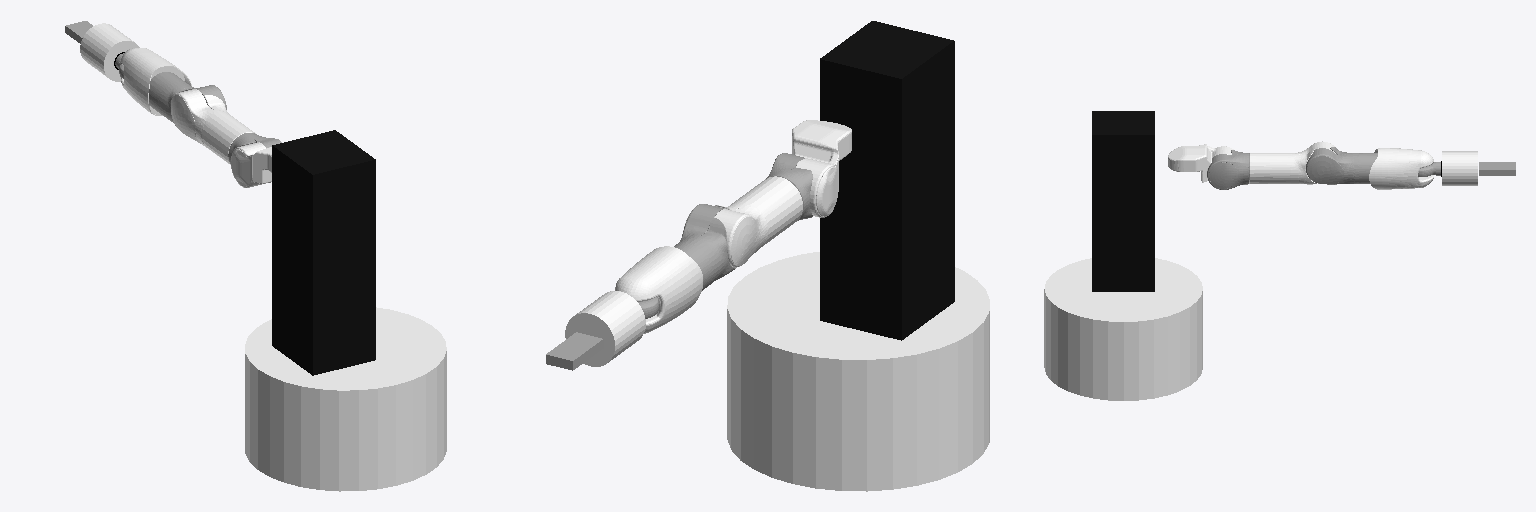
--- Facts derived from the render (not from the file) ---
3 views of the same robot in one strip: view 1: azimuth 30°, elevation 25°; view 2: azimuth 150°, elevation 25°; view 3: azimuth 270°, elevation 25° (orthographic).
Model tiago_left with 21 links and 20 joints (9 revolute, 3 prismatic, 8 fixed), rooted at base_footprint, posed every joint at zero.
Visible links, largest first — view 1: base_link, torso_fixed_column_link, arm_left_3_link, arm_left_5_link, gripper_left_link, arm_left_1_link, arm_left_4_link; view 2: base_link, torso_fixed_column_link, arm_left_3_link, arm_left_5_link, arm_left_1_link, gripper_left_link, arm_left_4_link, gripper_left_right_finger_link, arm_left_2_link; view 3: base_link, torso_fixed_column_link, arm_left_5_link, arm_left_4_link, arm_left_3_link, arm_left_2_link, arm_left_1_link, gripper_left_link.
Link boxes in pixels (box(x1,y1,x2,y2)): base_link: box(245, 307, 446, 491); torso_fixed_column_link: box(272, 130, 375, 375); arm_left_3_link: box(171, 89, 255, 164); arm_left_5_link: box(121, 48, 191, 115); gripper_left_link: box(80, 23, 139, 81); arm_left_1_link: box(231, 142, 271, 187); arm_left_4_link: box(149, 72, 226, 125); base_link: box(727, 252, 989, 491); torso_fixed_column_link: box(820, 21, 954, 340); arm_left_3_link: box(714, 176, 802, 266); arm_left_5_link: box(615, 246, 702, 333); arm_left_1_link: box(792, 120, 851, 217); gripper_left_link: box(565, 291, 645, 366); arm_left_4_link: box(674, 204, 736, 290); gripper_left_right_finger_link: box(546, 332, 603, 370); arm_left_2_link: box(766, 153, 812, 220); base_link: box(1044, 258, 1202, 400); torso_fixed_column_link: box(1092, 111, 1154, 291); arm_left_5_link: box(1369, 148, 1433, 189); arm_left_4_link: box(1306, 147, 1377, 184); arm_left_3_link: box(1249, 141, 1335, 184); arm_left_2_link: box(1207, 150, 1248, 189); arm_left_1_link: box(1168, 144, 1233, 182); gripper_left_link: box(1442, 151, 1477, 185).
Size in the robot's own frame: 0.5 by 1.49 by 0.8225 metres.
6 mesh visuals loaded from 10 distinct referenced files (6 binary STL); not drawn: 4 (reference not matched to a file when rendering).

The robot description file, URDF, robot "tiago_left":
<?xml version="1.0" encoding="utf-8"?>
<!-- =================================================================================== -->
<!-- |    This document was autogenerated by xacro from tiago_dual.urdf.xacro          | -->
<!-- |    EDITING THIS FILE BY HAND IS NOT RECOMMENDED                                 | -->
<!-- =================================================================================== -->
<!--
  Copyright (c) 2019, PAL Robotics, S.L.
  All rights reserved.

  This work is licensed under the Creative Commons Attribution-NonCommercial-NoDerivs 3.0 Unported License.
  To view a copy of this license, visit http://creativecommons.org/licenses/by-nc-nd/3.0/ or send a letter to
  Creative Commons, 444 Castro Street, Suite 900, Mountain View, California, 94041, USA.
-->
<robot name="tiago_left">
  <material name="Hey5DarkGrey">
    <color rgba="0.1 0.1 0.1 1.0"/>
  </material>
  <material name="Blue">
    <color rgba="0.0 0.0 0.8 1.0"/>
  </material>
  <material name="Green">
    <color rgba="0.0 0.8 0.0 1.0"/>
  </material>
  <material name="Grey">
    <color rgba="0.7 0.7 0.7 1.0"/>
  </material>
  <material name="LightGrey">
    <color rgba="0.7 0.7 0.7 1.0"/>
  </material>
  <material name="DarkGrey">
    <color rgba="0.1 0.1 0.1 1.0"/>
  </material>
  <material name="Red">
    <color rgba="0.8 0.0 0.0 1.0"/>
  </material>
  <material name="Orange">
    <color rgba="1.0 0.35 0.0 1.0"/>
  </material>
  <material name="Black">
    <color rgba="0.0 0.0 0.0 1.0"/>
  </material>  
  <material name="White">
    <color rgba="1.0 1.0 1.0 1.0"/>
  </material>
  <material name="Yellow">
    <color rgba="0.96 0.88 0.14 1.0"/>
  </material>

  <!-- Base -->
  <link name="base_link">
    <inertial>
      <origin rpy="0 0 0" xyz="-0.00000106 0.00000109 0.0000387"/>
      <mass value="28.26649"/>
      <inertia ixx="0.465408937" ixy="0.002160024" ixz="-0.001760255" iyy="0.483193291" iyz="-0.000655952" izz="0.550939703"/>
    </inertial>
<!--    <visual>-->
<!--      <origin rpy="0 0 0" xyz="0 0 0"/>-->
<!--      <geometry>-->
<!--        <mesh filename="meshes/pmb2_description/meshes/base/high_resolution/base_collision.stl"/>-->
<!--      </geometry>-->
<!--      <material name="White"/>-->
<!--    </visual>-->
    <visual>
      <origin rpy="0 0 0" xyz="0 0 0.06"/>
      <geometry>
        <cylinder radius="0.25" length="0.275"/>
      </geometry>
      <material name="White"/>
    </visual>
    <collision>
      <origin rpy="0 0 0" xyz="0 0 0"/>
      <geometry>
        <mesh filename="meshes/pmb2_description/meshes/base/high_resolution/base_collision.stl"/>
      </geometry>
      <material name="White"/>
    </collision>
    <contact>
	    <lateral_friction value="0.0" />
	    <rolling_friction value="0.0" />
	    <stiffness value="300000" />
	    <damping value="30000" />
    </contact>
  </link>
  <!-- Base footprint -->
  <link name="base_footprint">
    <inertial>
      <origin rpy="0 0 0" xyz="0 0 0"/>
      <mass value="0.001"/>
      <inertia ixx="0.000001" ixy="0" ixz="0" iyy="0.000001" iyz="0" izz="0.000001"/>
    </inertial>
  </link>
  <joint name="base_footprint_joint" type="fixed">
    <origin rpy="0 0 0" xyz="0 0 0.0985"/>
    <child link="base_link"/>
    <parent link="base_footprint"/>
  </joint>
  <!-- Bottom fixed part of column -->
  <link name="torso_fixed_link">
    <inertial>
      <origin rpy="0.00000 0.00000 0.00000" xyz="0.02435 -0.00464 0.15900"/>
      <mass value="14.01360"/>
      <inertia ixx="0.38341100000" ixy="0.00036400000" ixz="-0.02438900000" iyy="0.40577300000" iyz="-0.00078200000" izz="0.07699800000"/>
    </inertial>
    <visual>
      <origin rpy="0 0 0" xyz="0 0 0"/>
      <geometry>
        <mesh filename="meshes/tiago_dual_description/meshes/torso/torso_fix.stl" scale="1 1 1"/>
      </geometry>
      <material name="LightGrey"/>
    </visual>
    <collision>
      <origin rpy="0 0 0" xyz="0.085 0.0 0.02"/>
      <geometry>
        <box size="0.4 0.25 0.04"/>
      </geometry>
    </collision>
    <collision>
      <origin rpy="0 0 0" xyz="0 0 0.05"/>
      <geometry>
        <box size="0.25 0.25 0.1"/>
      </geometry>
    </collision>
  </link>
  <joint name="torso_fixed_joint" type="fixed">
    <origin rpy="0 0 0" xyz="-0.062 0.0 0.193"/>
    <parent link="base_link"/>
    <child link="torso_fixed_link"/>
    <axis xyz="0 0 0"/>
  </joint>
  <!-- Middle extending  -->
  <link name="torso_fixed_column_link">
    <inertial>
      <origin rpy="0 0 0" xyz="0 0 0"/>
      <mass value="0.01"/>
      <inertia ixx="0.000001" ixy="0" ixz="0" iyy="0.000001" iyz="0" izz="0.000001"/>
    </inertial>
    <visual>
      <origin rpy="0 0 0" xyz="0 0 0.275"/>
      <geometry>
        <box size="0.18 0.2 0.55"/>
      </geometry>
      <material name="DarkGrey"/>
    </visual>
    <collision>
      <origin rpy="0 0 0" xyz="0 0 0.275"/>
      <geometry>
        <box size="0.23 0.23 0.55"/>
      </geometry>
      <material name="DarkGrey"/>
    </collision>
  </link>
  <joint name="torso_fixed_column_joint" type="fixed">
    <origin rpy="0 0 0" xyz="-0.062 0 0.195"/>
    <parent link="base_link"/>
    <child link="torso_fixed_column_link"/>
    <axis xyz="0 0 0"/>
  </joint>
  <link name="torso_lift_link">
    <inertial>
      <origin rpy="0.00000 0.00000 0.00000" xyz="0.04361 -0.00116 -0.17334"/>
      <mass value="9.594213"/>
      <inertia ixx="0.326395" ixy="-0.000844" ixz="-0.018905" iyy="0.235332" iyz="0.009042" izz="0.176168"/>
    </inertial>
    <!-- Lifting body -->
    <visual>
      <origin rpy="0 0 0" xyz="0 0 0"/>
      <geometry>
        <mesh filename="meshes/tiago_dual_description/meshes/torso/torso_lift_dual_arm.stl" scale="1 1 1"/>
      </geometry>
      <material name="White"/>
    </visual>
    <collision>
      <origin rpy="0 0 0" xyz="0 0 0"/>
      <geometry>
        <mesh filename="meshes/tiago_description/meshes/torso/torso_lift_collision_core.dae" scale="1 1 1"/>
      </geometry>
      <material name="LightGrey"/>
    </collision>
    <!-- left shoulder collision-->
    <collision>
      <origin rpy="0 0 0" xyz="-0.131 0.17 -0.02556"/>
      <geometry>
        <mesh filename="meshes/tiago_description/meshes/torso/torso_lift_collision_shoulder.dae" scale="1 1 1"/>
      </geometry>
      <material name="LightGrey"/>
    </collision>
    <!-- right shoulder collision-->
    <collision>
      <origin rpy="0 0 0" xyz="-0.131 -0.19 -0.02556"/>
      <geometry>
        <mesh filename="meshes/tiago_description/meshes/torso/torso_lift_collision_shoulder.dae" scale="1 1 1"/>
      </geometry>
      <material name="LightGrey"/>
    </collision>
    <collision>
      <origin rpy="0 0 0" xyz="0 0 0"/>
      <geometry>
        <mesh filename="meshes/tiago_description/meshes/torso/torso_lift_collision_neck.dae" scale="1 1 1"/>
      </geometry>
      <material name="LightGrey"/>
    </collision>
  </link>
  <joint name="torso_lift_joint" type="prismatic">
    <origin rpy="0.0 0.0 0.0" xyz="0.0 0.0 0.597"/>
    <parent link="torso_fixed_link"/>
    <child link="torso_lift_link"/>
    <axis xyz="0 0 1"/>
    <limit effort="2000" lower="0" upper="0.35" velocity="0.07"/>
    <calibration rising="0.0"/>
    <dynamics damping="1000"/>
    <safety_controller k_position="20" k_velocity="20" soft_lower_limit="0.0" soft_upper_limit="0.35"/>
  </joint>
  <link name="head_1_link">
    <inertial>
      <origin rpy="0.00000 0.00000 0.00000" xyz="-0.00508 0.00237 0.07229"/>
      <mass value="0.62220"/>
      <inertia ixx="0.00119200000" ixy="-0.00000700000" ixz="0.00009600000" iyy="0.00140200000" iyz="0.00000400000" izz="0.00088900000"/>
    </inertial>
    <visual>
      <origin rpy="0 0 0" xyz="0 0 0"/>
      <geometry>
        <mesh filename="meshes/tiago_description/meshes/head/head_1.stl" scale="1 1 1"/>
      </geometry>
      <material name="White"/>
    </visual>
    <collision>
      <origin rpy="0 0 0.0" xyz="0.0 0 0"/>
      <geometry>
        <mesh filename="meshes/tiago_description/meshes/head/head_1_collision.dae" scale="1 1 1"/>
      </geometry>
      <material name="White"/>
    </collision>
  </link>
  <joint name="head_1_joint" type="revolute">
    <parent link="torso_lift_link"/>
    <child link="head_1_link"/>
    <origin rpy="0 0 0" xyz="0.182 0.0 0.0"/>
    <axis xyz="0 0 1"/>
    <limit effort="5.197" lower="-1.308996939" upper="1.308996939" velocity="3.0"/>
    <dynamics damping="0.5" friction="1.0"/>
    <safety_controller k_position="20" k_velocity="20" soft_lower_limit="-1.238996939" soft_upper_limit="1.238996939"/>
  </joint>
  <link name="head_2_link">
    <inertial>
      <origin rpy="0.00000 0.00000 0.00000" xyz="0.04700 0.05542 0.00022"/>
      <mass value="0.66123"/>
      <inertia ixx="0.00462000000" ixy="0.00068900000" ixz="0.00000600000" iyy="0.00486100000" iyz="0.00000600000" izz="0.00313200000"/>
    </inertial>
    <visual>
      <origin rpy="0 0 0" xyz="0 0 0"/>
      <geometry>
        <mesh filename="meshes/tiago_description/meshes/head/head_2.stl" scale="1 1 1"/>
      </geometry>
      <material name="White"/>
    </visual>
    <collision>
      <origin rpy="0 0 0" xyz="0 0 0"/>
      <geometry>
        <mesh filename="meshes/tiago_description/meshes/head/head_2_collision.dae" scale="1 1 1"/>
      </geometry>
    </collision>
  </link>
  <joint name="head_2_joint" type="revolute">
    <parent link="head_1_link"/>
    <child link="head_2_link"/>
    <origin rpy="1.57079632679 0 0" xyz="0.005 0.0 0.098"/>
    <axis xyz="0 0 1"/>
    <limit effort="2.77" lower="-1.0471975512" upper="0.785398163397" velocity="3.0"/>
    <dynamics damping="0.5" friction="1.0"/>
    <safety_controller k_position="20" k_velocity="20" soft_lower_limit="-0.977197551197" soft_upper_limit="0.785398163397"/>
  </joint>
  <!--************************-->
  <!--        SHOULDER        -->
  <!--************************-->
  <link name="arm_left_1_link">
    <inertial>
      <origin rpy="0.00000 0.00000 0.00000" xyz="0.061191 -0.022397 0.012835"/>
      <mass value="1.563428"/>
      <inertia ixx="0.002471" ixy="0.001809" ixz="-0.001202" iyy="0.006132" iyz="-0.000494" izz="0.006704"/>
    </inertial>
    <!-- M90 module -->
    <visual>
      <origin rpy="0 0 0" xyz="0 0 0"/>
      <geometry>
        <mesh filename="meshes/tiago_description/meshes/arm/arm_1_left.stl" scale="1 1 1"/>
      </geometry>
      <material name="White"/>
    </visual>
    <collision>
      <origin rpy="0 0 0" xyz="0 0 0"/>
      <geometry>
        <mesh filename="meshes/tiago_description/meshes/arm/arm_1_collision.dae" scale="1 -1 -1"/>
      </geometry>
    </collision>
  </link>
  <joint name="arm_left_1_joint" type="revolute">
    <parent link="torso_lift_link"/>
    <child link="arm_left_1_link"/>
    <origin rpy="3.14159265359 0 1.57079632679" xyz="0.02556 0.19 -0.171"/>
    <axis xyz="0 0 1"/>
    <limit effort="43.0" lower="-1.1780972451" upper="1.57079632679" velocity="1.95"/>
    <dynamics damping="1.0" friction="1.0"/>
    <safety_controller k_position="20" k_velocity="20" soft_lower_limit="-1.1080972451" soft_upper_limit="1.50079632679"/>
  </joint>
  <link name="arm_left_2_link">
    <inertial>
      <origin rpy="0.00000 0.00000 0.00000" xyz="0.030432 0.000229 0.005942"/>
      <mass value="1.800397"/>
      <inertia ixx="0.001809" ixy="-1.5e-05" ixz="-0.000254" iyy="0.004333" iyz="-1.4e-05" izz="0.004341"/>
    </inertial>
    <visual>
      <!-- <origin xyz="0 0 0" rpy="${180 * deg_to_rad} ${0 * deg_to_rad} ${-90 * deg_to_rad}" /> -->
      <origin rpy="0.0 0.0 0.0" xyz="0 0 0"/>
      <geometry>
        <mesh filename="meshes/tiago_description/meshes/arm/arm_2_left.stl" scale="1 1 1"/>
      </geometry>
      <material name="Grey"/>
    </visual>
    <collision>
      <!-- <origin xyz="0 0 0" rpy="${180 * deg_to_rad} ${0 * deg_to_rad} ${-90 * deg_to_rad}" /> -->
      <origin rpy="0.0 0.0 0.0" xyz="0 0 0"/>
      <geometry>
        <mesh filename="meshes/tiago_description/meshes/arm/arm_2_collision.dae" scale="1 1 -1"/>
      </geometry>
    </collision>
  </link>
  <joint name="arm_left_2_joint" type="revolute">
    <parent link="arm_left_1_link"/>
    <child link="arm_left_2_link"/>
    <origin rpy="1.57079632679 0.0 0.0" xyz="0.125 -0.0195 0.031"/>
    <axis xyz="0 0 1"/>
    <limit effort="43.0" lower="-1.1780972451" upper="1.57079632679" velocity="1.95"/>
    <dynamics damping="1.0" friction="1.0"/>
    <safety_controller k_position="20" k_velocity="20" soft_lower_limit="-1.1080972451" soft_upper_limit="1.50079632679"/>
  </joint>
  <link name="arm_left_3_link">
    <inertial>
      <origin rpy="0.00000 0.00000 0.00000" xyz="0.007418 -0.004361 0.134194"/>
      <mass value="2.343502"/>
      <inertia ixx="0.019541" ixy="-0.000105" ixz="-0.001717" iyy="0.019936" iyz="-0.000852" izz="0.002864"/>
    </inertial>
    <visual>
      <origin rpy="0 0 0" xyz="0 0 0"/>
      <geometry>
        <mesh filename="meshes/tiago_description/meshes/arm/arm_3_left.stl" scale="1 1 1"/>
      </geometry>
      <material name="White"/>
    </visual>
    <collision>
      <origin rpy="0 0 0" xyz="0 0 0"/>
      <geometry>
        <mesh filename="meshes/tiago_description/meshes/arm/arm_3_collision.dae" scale="1 1 -1"/>
      </geometry>
    </collision>
  </link>
  <joint name="arm_left_3_joint" type="revolute">
    <parent link="arm_left_2_link"/>
    <child link="arm_left_3_link"/>
    <origin rpy="-1.57079632679 3.14159265359 -1.57079632679" xyz="0.0895 0.0 0.0015"/>
    <axis xyz="0 0 1"/>
    <limit effort="26" lower="-0.785398163397" upper="3.92699081699" velocity="2.35"/>
    <dynamics damping="1.0" friction="1.0"/>
    <safety_controller k_position="20" k_velocity="20" soft_lower_limit="-0.715398163397" soft_upper_limit="3.85699081699"/>
  </joint>
  <!--************************-->
  <!--        ELBOW           -->
  <!--************************-->
  <link name="arm_left_4_link">
    <inertial>
      <origin rpy="0.00000 0.00000 0.00000" xyz="0.095658 -0.014666 0.018133"/>
      <mass value="1.432697"/>
      <inertia ixx="0.002040" ixy="-0.000725" ixz="0.00115" iyy="0.008424" iyz="-0.000204" izz="0.008686"/>
    </inertial>
    <visual>
      <origin rpy="0 0 0" xyz="0 0 0"/>
      <geometry>
        <mesh filename="meshes/tiago_description/meshes/arm/arm_4_left.stl" scale="1 1 1"/>
      </geometry>
      <material name="Grey"/>
    </visual>
    <collision>
      <origin rpy="0 0 0" xyz="0 0 0"/>
      <geometry>
        <mesh filename="meshes/tiago_description/meshes/arm/arm_4_collision.dae" scale="-1 -1 -1"/>
      </geometry>
    </collision>
  </link>
  <joint name="arm_left_4_joint" type="revolute">
    <parent link="arm_left_3_link"/>
    <child link="arm_left_4_link"/>
    <origin rpy="1.57079632679 -1.57079632679 0.0" xyz="-0.02 -0.027 0.222"/>
    <axis xyz="0 0 1"/>
    <limit effort="26" lower="-0.392699081699" upper="2.35619449019" velocity="2.35"/>
    <dynamics damping="1.0" friction="1.0"/>
    <safety_controller k_position="20" k_velocity="20" soft_lower_limit="-0.322699081699" soft_upper_limit="2.28619449019"/>
  </joint>
  <!--************************-->
  <!--        WRIST           -->
  <!--************************-->
  <link name="arm_left_5_link">
    <inertial>
      <origin rpy="0.00000 0.00000 0.00000" xyz="0.001078 -0.000151 0.077173"/>
      <mass value="1.655819"/>
      <inertia ixx="0.00613800000" ixy="-0.00000400000" ixz="0.00015600000" iyy="0.00564000000" iyz="0.00002200000" izz="0.00179700000"/>
    </inertial>
    <visual>
      <origin rpy="0 0 0" xyz="0 0 0"/>
      <geometry>
        <mesh filename="meshes/tiago_description/meshes/arm/arm_5-wrist-2017_left.stl" scale="1 1 1"/>
      </geometry>
      <material name="White"/>
    </visual>
    <collision>
      <origin rpy="0 0 0" xyz="0 0 0"/>
      <geometry>
        <mesh filename="meshes/tiago_description/meshes/arm/arm_5_collision-wrist-2017.dae" scale="-1 -1 -1"/>
      </geometry>
    </collision>
  </link>
  <joint name="arm_left_5_joint" type="revolute">
    <parent link="arm_left_4_link"/>
    <child link="arm_left_5_link"/>
    <origin rpy="1.57079632679 -1.57079632679 -1.57079632679" xyz="0.162 -0.02 -0.027"/>
    <axis xyz="0 0 1"/>
    <limit effort="3" lower="-2.09439510239" upper="2.09439510239" velocity="1.95"/>
    <dynamics damping="1.0" friction="1.0"/>
    <safety_controller k_position="20" k_velocity="20" soft_lower_limit="-2.07439510239" soft_upper_limit="2.07439510239"/>
  </joint>
  <link name="arm_left_6_link">
    <inertial>
      <origin rpy="0.00000 0.00000 0.00000" xyz="-0.000153 -0.003122 0.000183"/>
      <mass value="0.370063"/>
      <inertia ixx="0.00021500000" ixy="0.00000000000" ixz="0.00000000000" iyy="0.00017000000" iyz="0.00000200000" izz="0.00017400000"/>
    </inertial>
    <visual>
      <origin rpy="0 0 0" xyz="0 0 0"/>
      <geometry>
        <mesh filename="meshes/tiago_description/meshes/arm/arm_6-wrist-2017_left.stl" scale="1 1 1"/>
      </geometry>
      <material name="LightGrey"/>
    </visual>
    <collision>
      <origin rpy="0 0 0" xyz="0 0 0"/>
      <geometry>
        <mesh filename="meshes/tiago_description/meshes/arm/arm_6_collision-wrist-2017.dae" scale="-1 1 1"/>
      </geometry>
    </collision>
  </link>
  <joint name="arm_left_6_joint" type="revolute">
    <parent link="arm_left_5_link"/>
    <child link="arm_left_6_link"/>
    <origin rpy="0.0 -1.57079632679 -1.57079632679" xyz="0 0 -0.15"/>
    <axis xyz="0 0 1"/>
    <limit effort="6.6" lower="-1.41371669412" upper="1.41371669412" velocity="1.76"/>
    <dynamics damping="1.0" friction="1.0"/>
    <safety_controller k_position="20" k_velocity="20" soft_lower_limit="-1.39371669412" soft_upper_limit="1.39371669412"/>
  </joint>
  <link name="arm_left_7_link">
    <inertial>
      <origin rpy="0.00000 0.00000 0.00000" xyz="0.000010 -0.000003 -0.007774"/>
      <mass value="0.234252"/>
      <inertia ixx="0.00014200000" ixy="0.00000000000" ixz="0.00000000000" iyy="0.00011300000" iyz="0.00000000000" izz="0.00005200000"/>
    </inertial>
  </link>
  <joint name="arm_left_7_joint" type="revolute">
    <parent link="arm_left_6_link"/>
    <child link="arm_left_7_link"/>
    <origin rpy="1.57079632679 0.0 1.57079632679" xyz="0 0 0"/>
    <axis xyz="0 0 1"/>
    <limit effort="6.6" lower="-2.09439510239" upper="2.09439510239" velocity="1.76"/>
    <dynamics damping="1.0" friction="1.0"/>
    <safety_controller k_position="20" k_velocity="20" soft_lower_limit="-2.07439510239" soft_upper_limit="2.07439510239"/>
  </joint>
    <!--***********************-->
  <!--        TOOL           -->
  <!--***********************-->
  <link name="arm_left_tool_link">
    <inertial>
      <mass value="0.1"/>
      <inertia ixx="0.0" ixy="0.0" ixz="0.0" iyy="0.0" iyz="0.0" izz="0.0"/>
    </inertial>
    <visual>
      <origin rpy="0 1.57079632679 0" xyz="0.001 0 0"/>
      <geometry>
        <cylinder length="0.005" radius="0.005"/>
      </geometry>
      <material name="Blue"/>
    </visual>
    <collision>
      <origin rpy="0 1.57079632679 0" xyz="0.001 0 0"/>
      <geometry>
        <cylinder length="0.005" radius="0.005"/>
      </geometry>
    </collision>
  </link>
  <joint name="arm_left_tool_joint" type="fixed">
    <parent link="arm_left_7_link"/>
    <child link="arm_left_tool_link"/>
    <origin rpy="1.57079632679 1.57079632679 3.14159265359" xyz="0 0 -0.046"/>
  </joint>
  <!--************************-->
  <!--        ft sensor       -->
  <!--************************-->
  <link name="wrist_left_ft_link">
    <inertial>
      <mass value="0.1"/>
      <inertia ixx="0.0" ixy="0.0" ixz="0.0" iyy="0.0" iyz="0.0" izz="0.0"/>
    </inertial>
    <visual>
      <origin rpy="0 0 0" xyz="0 0 0"/>
      <geometry>
        <cylinder length="0.0157" radius="0.0225"/>
      </geometry>
      <material name="LightGrey"/>
    </visual>
    <collision>
      <origin rpy="0 0 0" xyz="0 0 0"/>
      <geometry>
        <cylinder length="0.0157" radius="0.0225"/>
      </geometry>
    </collision>
  </link>
  <joint name="wrist_left_ft_joint" type="fixed">
    <parent link="arm_left_tool_link"/>
    <child link="wrist_left_ft_link"/>
    <origin rpy="1.57079632679 0 1.57079632679" xyz="0.00785 0 0"/>
  </joint>
  <!--***********************-->
  <!--       FT TOOL         -->
  <!--***********************-->
  <link name="wrist_left_ft_tool_link">
    <inertial>
      <mass value="0.1"/>
      <inertia ixx="0.0" ixy="0.0" ixz="0.0" iyy="0.0" iyz="0.0" izz="0.0"/>
    </inertial>
    <visual>
      <origin rpy="0 1.57079632679 0" xyz="0.0 0 0"/>
      <geometry>
        <cylinder length="0.00975" radius="0.025"/>
      </geometry>
      <material name="Black"/>
    </visual>
    <collision>
      <origin rpy="0 1.57079632679 0" xyz="0.0 0 0"/>
      <geometry>
        <cylinder length="0.00975" radius="0.025"/>
      </geometry>
    </collision>
  </link>
  <joint name="wrist_left_tool_joint" type="fixed">
    <parent link="wrist_left_ft_link"/>
    <child link="wrist_left_ft_tool_link"/>
    <origin rpy="-1.57079632679 -1.57079632679 0" xyz="0 0 0.012725"/>
  </joint>
  <link name="gripper_left_tool_link">
    <inertial>
      <origin rpy="0 0 0" xyz="0 0 0"/>
      <mass value="0.0001"/>
      <inertia ixx="0.00001" ixy="0.0" ixz="0.0" iyy="0.00001" iyz="0.0" izz="0.00001"/>
    </inertial>
  </link>
  <joint name="gripper_left_tool_joint" type="fixed">
    <origin rpy="1.57079632679 1.57079632679 -1.57079632679" xyz="0.01 0 0"/>
    <parent link="wrist_left_ft_tool_link"/>
    <child link="gripper_left_tool_link"/>
    <axis xyz="0 0 0"/>
  </joint>
  <link name="gripper_left_link">
    <inertial>
      <origin rpy="0.0 0.0 0.0" xyz="-0.000294 0.000291 -0.033086"/>
      <mass value="0.602660"/>
      <inertia ixx="0.000693" ixy="0.000045" ixz="-0.000000" iyy="0.001024" iyz="0.000000" izz="0.000672"/>
    </inertial>
    <visual>
<!--      <origin rpy="0 0 0" xyz="0 0 0"/>-->
<!--      <geometry>-->
<!--        <mesh filename="meshes/pal_gripper_description/meshes/gripper_link.stl"/>-->
<!--      </geometry>-->
      <origin rpy="0 0 0" xyz="0 0 -0.045"/>
      <geometry>
        <cylinder radius="0.055" length="0.1163"/>
      </geometry>

      <material name="White"/>
    </visual>
    <collision>
      <origin rpy="0 0 0" xyz="0 0 0"/>
      <geometry>
        <mesh filename="meshes/pal_gripper_description/meshes/gripper_link_collision.stl"/>
      </geometry>
    </collision>
  </link>
  <joint name="gripper_left_joint" type="fixed">
    <origin rpy="1.57079632679 1.57079632679 -1.57079632679" xyz="0.01 0 0"/>
    <parent link="wrist_left_ft_tool_link"/>
    <child link="gripper_left_link"/>
    <axis xyz="0 0 0"/>
  </joint>
  <link name="gripper_left_right_finger_link">
    <inertial>
      <origin rpy="0 0 0" xyz="-0.004470 0.010766 -0.121013"/>
      <mass value="0.109980"/>
      <inertia ixx="0.000232" ixy="-0.000005" ixz="-0.000032" iyy="0.000224" iyz="0.000036" izz="0.000029"/>
    </inertial>
    <visual>
<!--      <origin rpy="0 0 3.1415" xyz="0 0 0"/>-->
<!--      <geometry>-->
<!--        <mesh filename="meshes/pal_gripper_description/meshes/gripper_finger_link_2.stl" scale="1 1 1"/>-->
<!--      </geometry>-->
      <origin rpy="0 0 3.1415" xyz="0 0 -0.162"/>
      <geometry>
        <box size="0.02 0.06 0.116"/>
      </geometry>
      <material name="Grey"/>
    </visual>
    <collision>
      <origin rpy="0 0 3.1415" xyz="0.005 0 -0.165"/>
      <geometry>
        <box size="0.01 0.05 0.11"/>
      </geometry>
    </collision>
  </link>
  <joint name="gripper_left_right_finger_joint" type="prismatic">
    <origin rpy="0 0 0" xyz="0. 0 0"/>
    <parent link="gripper_left_link"/>
    <child link="gripper_left_right_finger_link"/>
    <axis xyz="1 0 0"/>
    <limit effort="16" lower="0.0" upper="0.045" velocity="0.05"/>
    <calibration rising="0.0"/>
    <dynamics damping="80"/>
    <safety_controller k_position="20" k_velocity="20" soft_lower_limit="0.001" soft_upper_limit="0.044"/>
  </joint>
  <link name="gripper_left_left_finger_link">
    <inertial>
      <origin rpy="0 0 0" xyz="-0.004470 0.010766 -0.121013"/>
      <mass value="0.109980"/>
      <inertia ixx="0.000232" ixy="-0.000005" ixz="-0.000032" iyy="0.000224" iyz="0.000036" izz="0.000029"/>
    </inertial>
    <visual>
<!--      <origin rpy="0 0 3.1415" xyz="0 0 0"/>-->
<!--      <geometry>-->
<!--        <mesh filename="meshes/pal_gripper_description/meshes/gripper_finger_link.stl"/>-->
<!--      </geometry>-->
<!--      <material name="Black"/>-->
      <origin rpy="0 0 3.1415" xyz="0 0 -0.162"/>
      <geometry>
        <box size="0.02 0.06 0.116"/>
      </geometry>
      <material name="Grey"/>
    </visual>
    <collision>
      <origin rpy="0 0 3.1415" xyz="-0.005 0 -0.165"/>
      <geometry>
        <box size="0.01 0.05 0.11"/>
      </geometry>
    </collision>
  </link>
  <joint name="gripper_left_left_finger_joint" type="prismatic">
    <origin rpy="0 0 0" xyz="0. 0 0"/>
    <parent link="gripper_left_link"/>
    <child link="gripper_left_left_finger_link"/>
    <axis xyz="-1 0 0"/>
    <limit effort="16" lower="0" upper="0.045" velocity="0.05"/>
    <calibration rising="0.0"/>
    <dynamics damping="80"/>
    <safety_controller k_position="20" k_velocity="20" soft_lower_limit="0.001" soft_upper_limit="0.044"/>
  </joint>

</robot>
